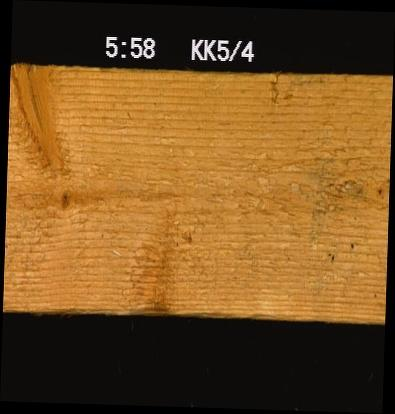small_knot: (57, 182, 72, 213), (372, 182, 386, 198)
wave: (49, 296, 304, 316)
